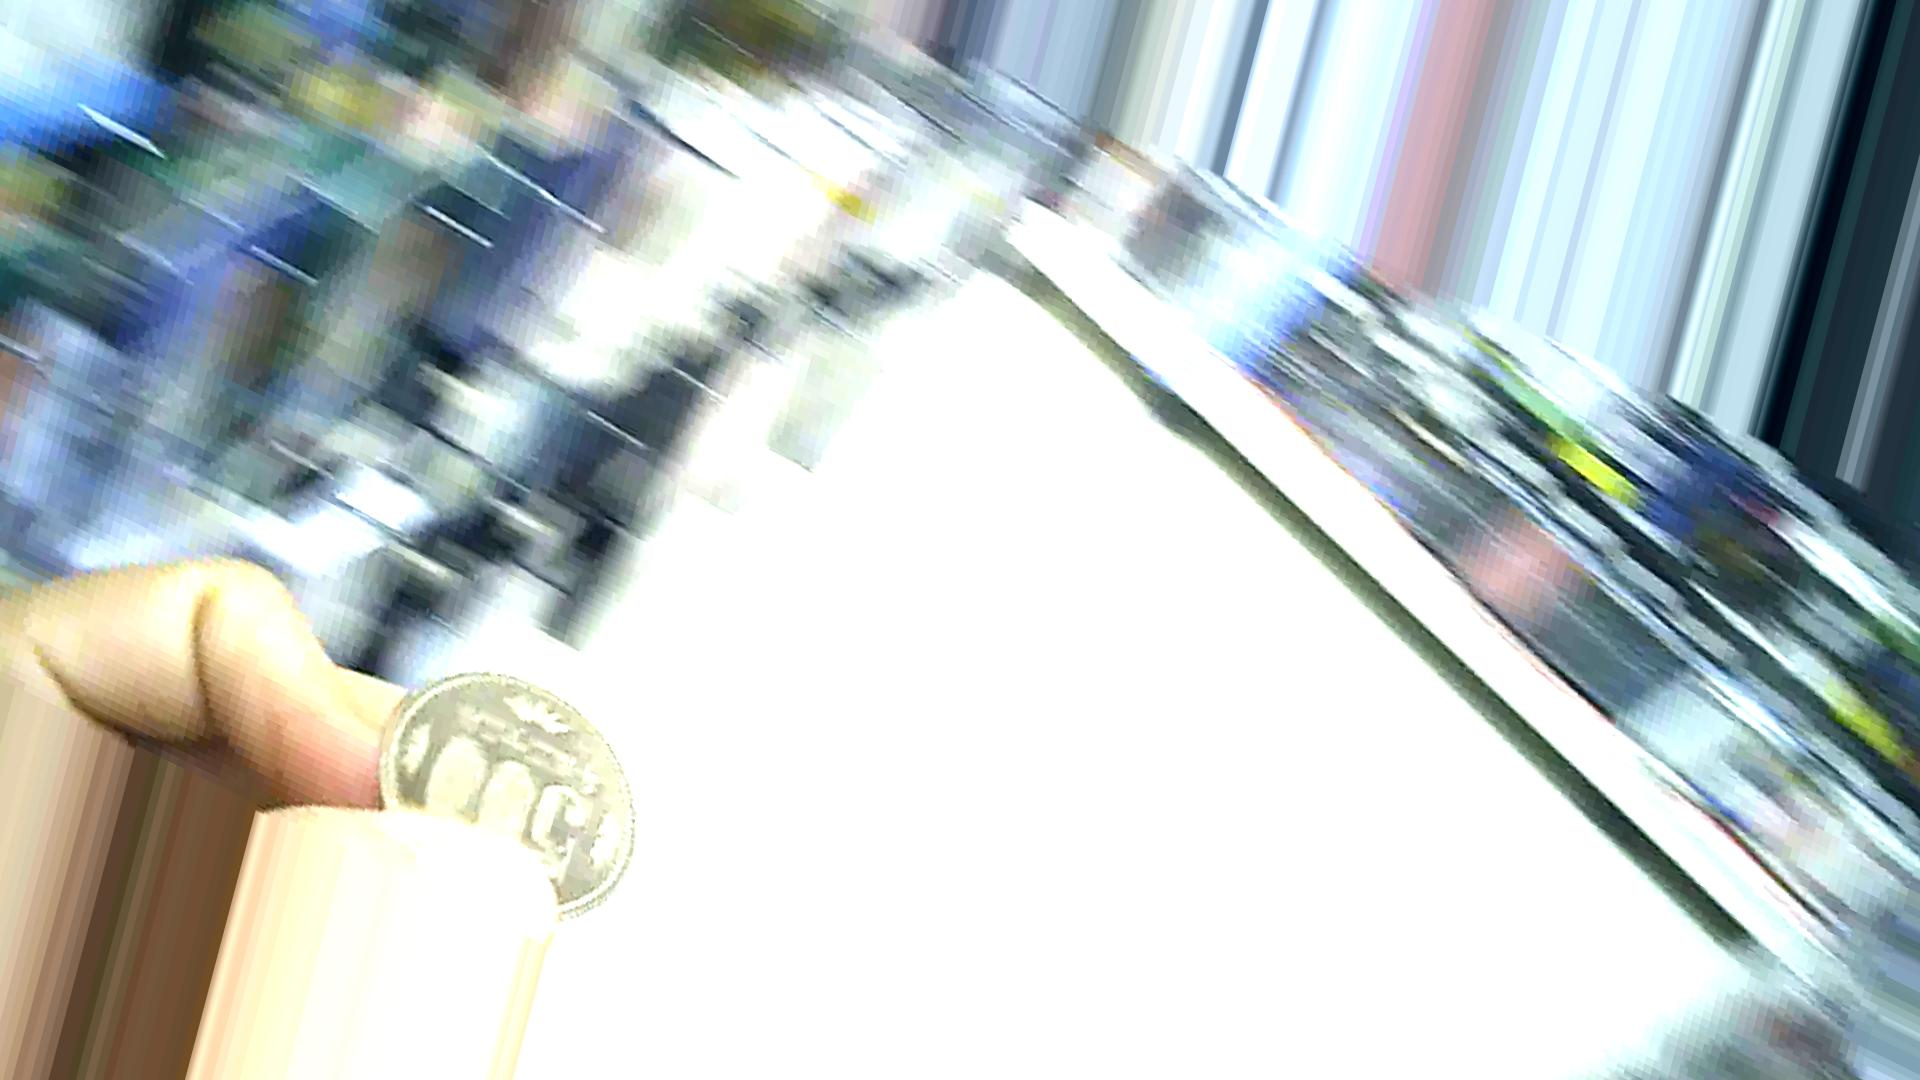500 Yen: (373, 659, 637, 927)
